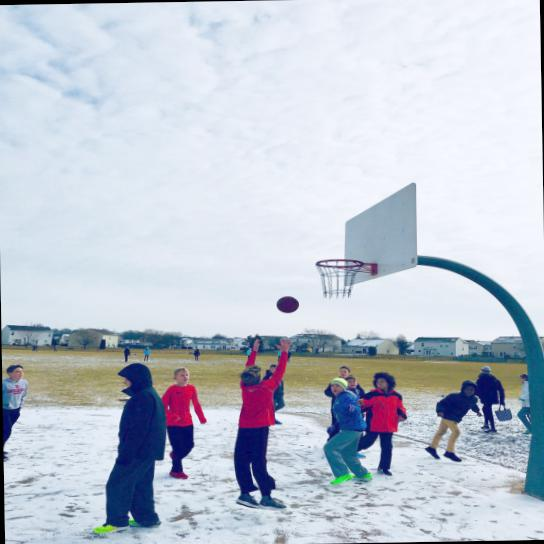basketball-hoop: (313, 255, 366, 299)
